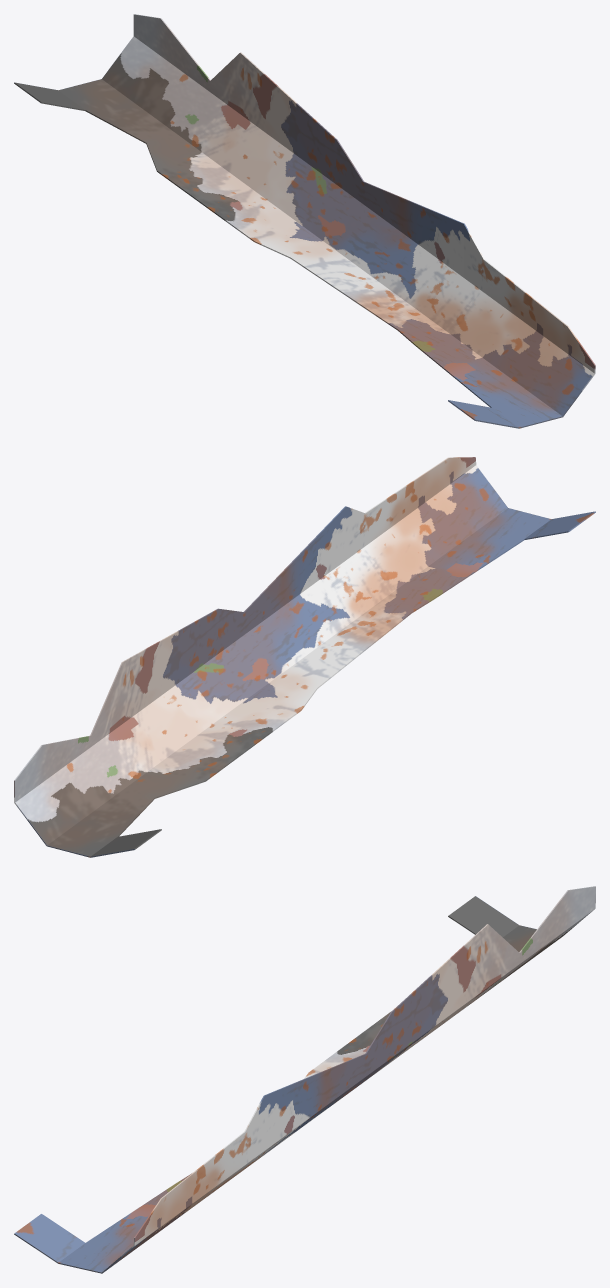
The model's file is m_TurbineBlade01.fbx.
3 renders of one model, top to bottom at view 1: azimuth 30°, elevation 25°; view 2: azimuth 150°, elevation 25°; view 3: azimuth 330°, elevation 25°, orthographic.
Parts seen in each view (by area): view 1: TurbineBlade01; view 2: TurbineBlade01; view 3: TurbineBlade01.
Boxes of the visible parts, x1,y1,x2,y2 form: TurbineBlade01: (14, 14, 595, 428); TurbineBlade01: (14, 457, 595, 857); TurbineBlade01: (14, 886, 595, 1273).
Size of the model in its own units: 0.3032 by 0.2367 by 2.
1 material, 1 textured.
